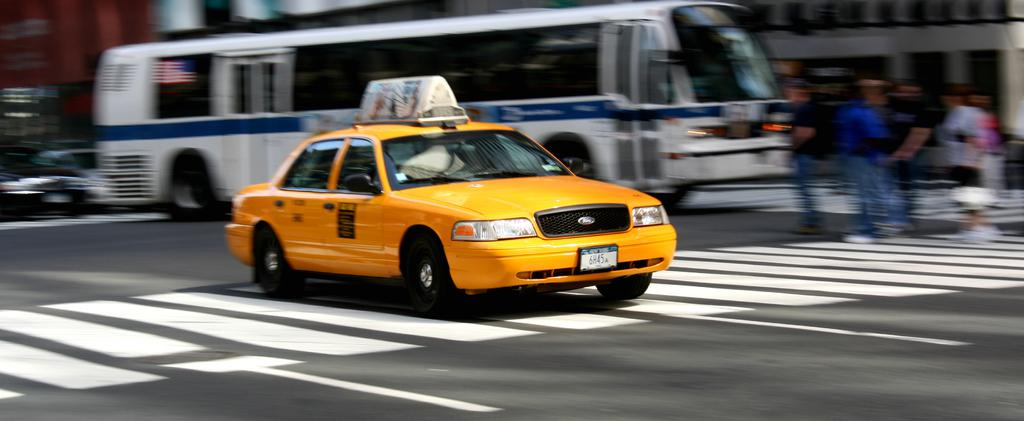taxi: (224, 76, 678, 320)
